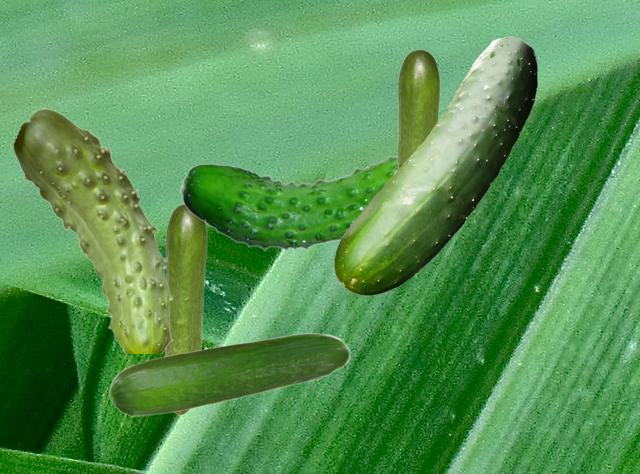cucumber: (334, 36, 536, 294), (12, 108, 173, 352), (178, 155, 396, 251), (108, 332, 349, 416), (164, 203, 206, 414), (397, 49, 439, 169)
